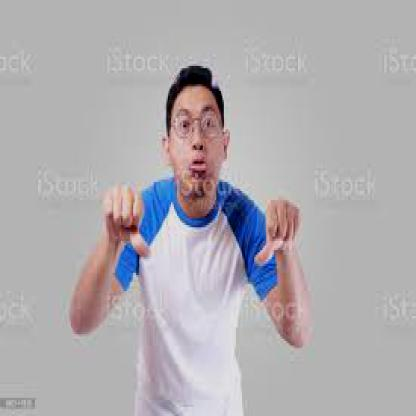Thumbs Down: (95, 183, 154, 261), (258, 196, 302, 269)
